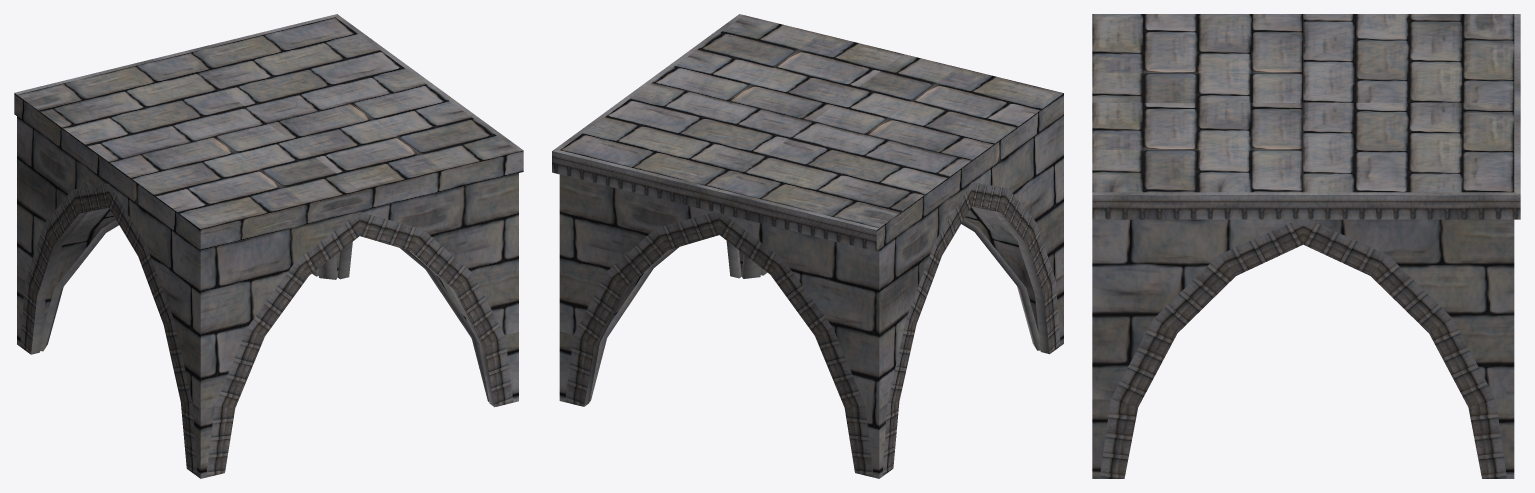
The model's file is vault_small_corner_L_01.fbx.
3 renders of one model, left to right at view 1: azimuth 30°, elevation 25°; view 2: azimuth 150°, elevation 25°; view 3: azimuth 270°, elevation 25°, orthographic. The views are drawn at different scales.
Parts seen in each view (by area): view 1: vault_small_corner_L_01; view 2: vault_small_corner_L_01; view 3: vault_small_corner_L_01.
Boxes of the visible parts, box(x1,y1,x2,y2) form: vault_small_corner_L_01: box(14, 14, 523, 478); vault_small_corner_L_01: box(552, 14, 1063, 478); vault_small_corner_L_01: box(1092, 14, 1520, 478).
Bounding box in the file's own units: 812 × 600 × 812.
